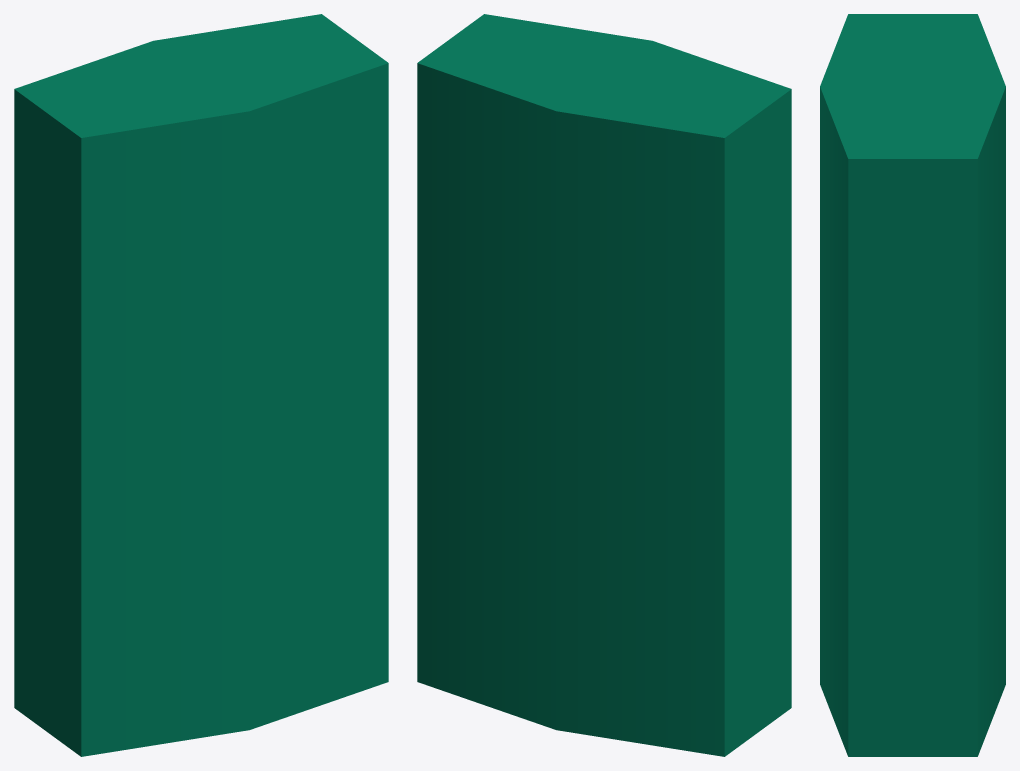
File: Ing_Deo.fbx
The picture shows the model from 3 angles, left to right: view 1: azimuth 30°, elevation 25°; view 2: azimuth 150°, elevation 25°; view 3: azimuth 270°, elevation 25°; orthographic projection. The views are drawn at different scales.
Parts seen in each view (by area): view 1: Ing_Deo_low; view 2: Ing_Deo_low; view 3: Ing_Deo_low.
Part boxes in pixels (<box>): Ing_Deo_low: <box>14,14,388,756</box>; Ing_Deo_low: <box>417,14,791,756</box>; Ing_Deo_low: <box>820,14,1005,756</box>.
Size of the model in its own units: 8.62 by 16.57 by 4.67.
